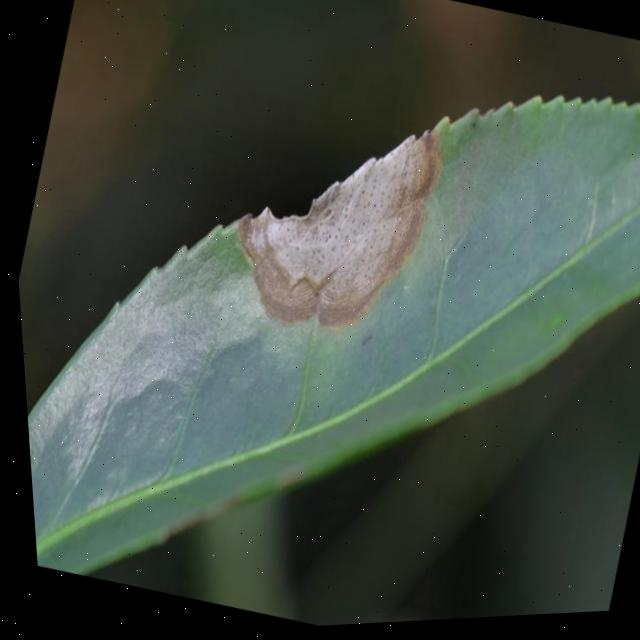Tea cloud leaf blight: (208, 88, 476, 365)
